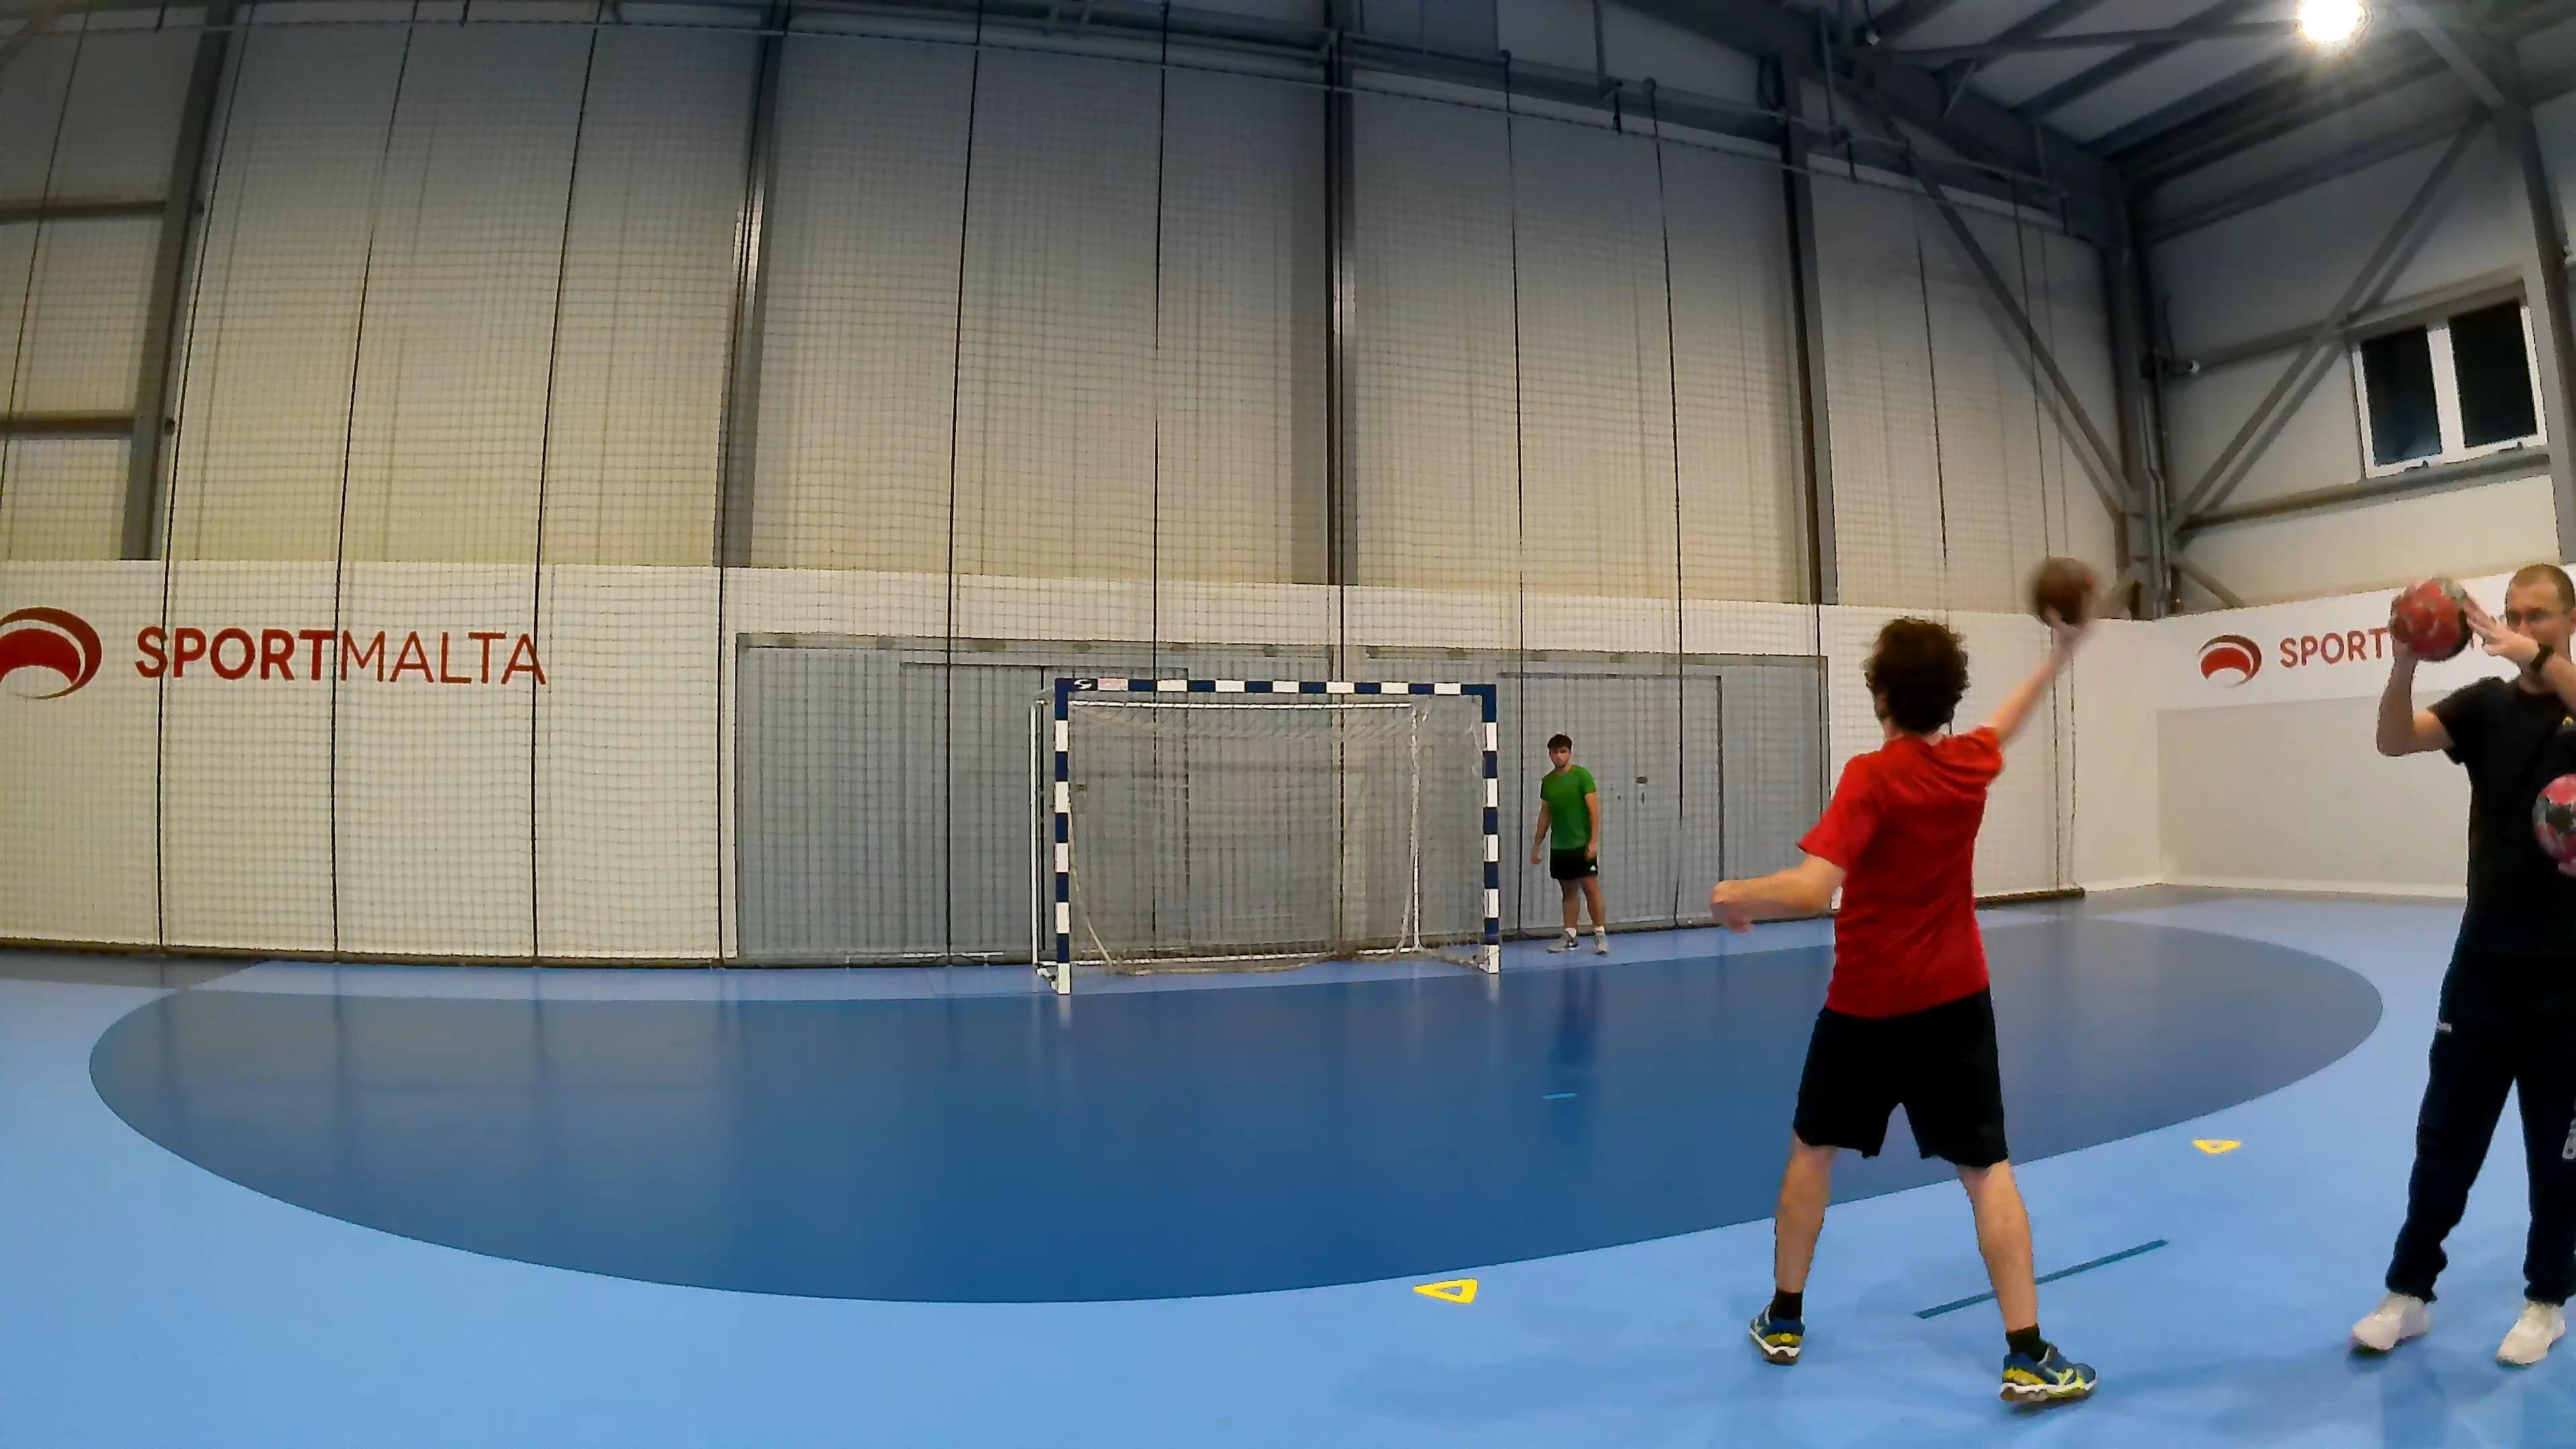handball: (2388, 575, 2470, 660), (2031, 556, 2097, 628)
